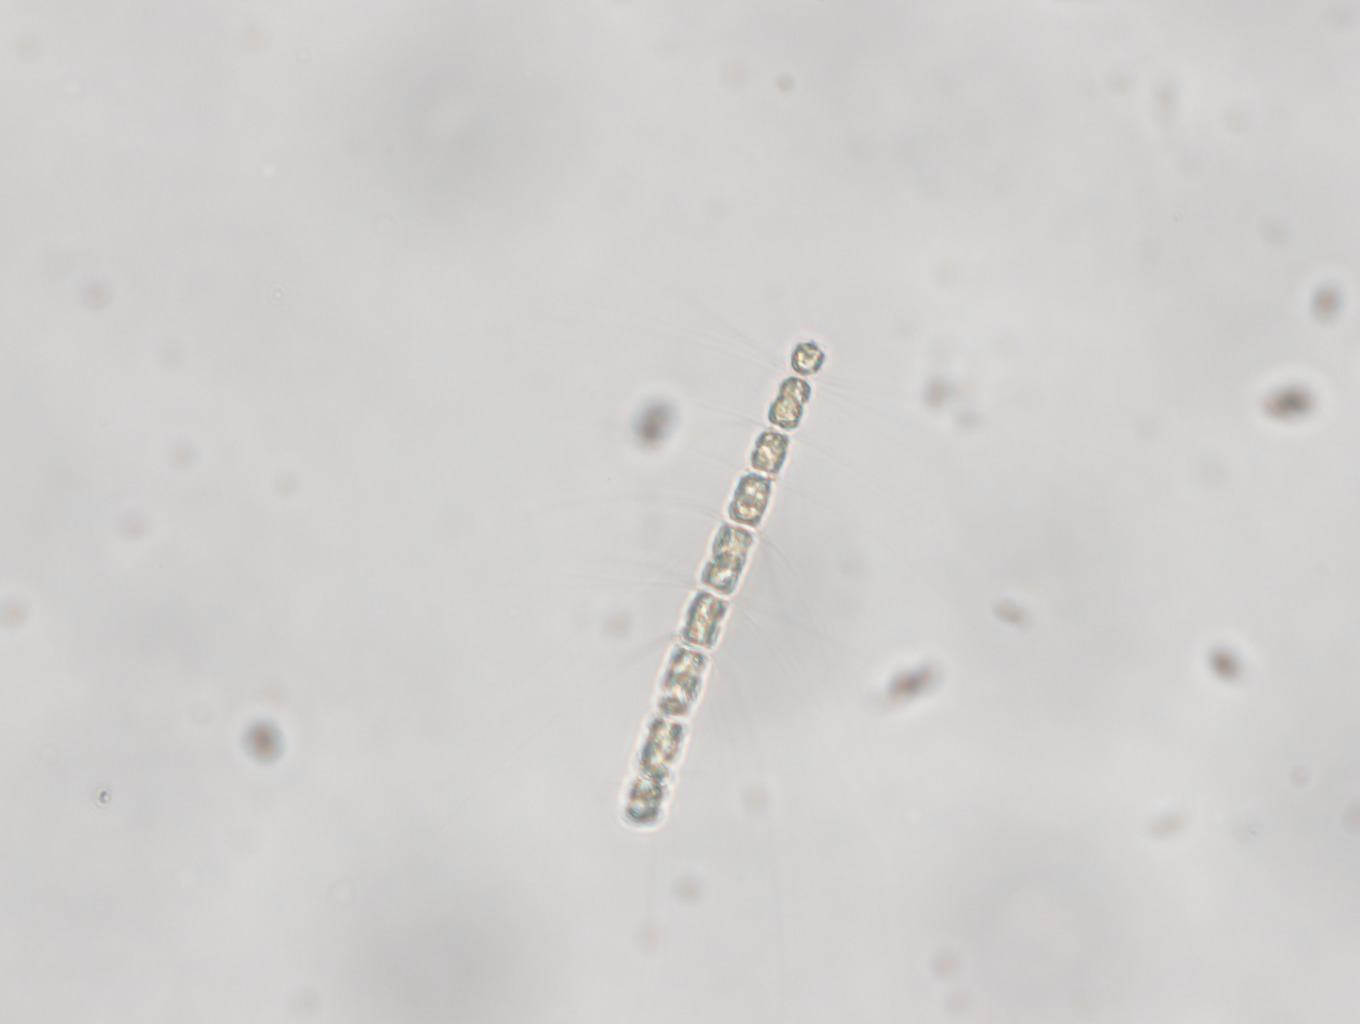detonula pumila: (614, 332, 838, 856)
